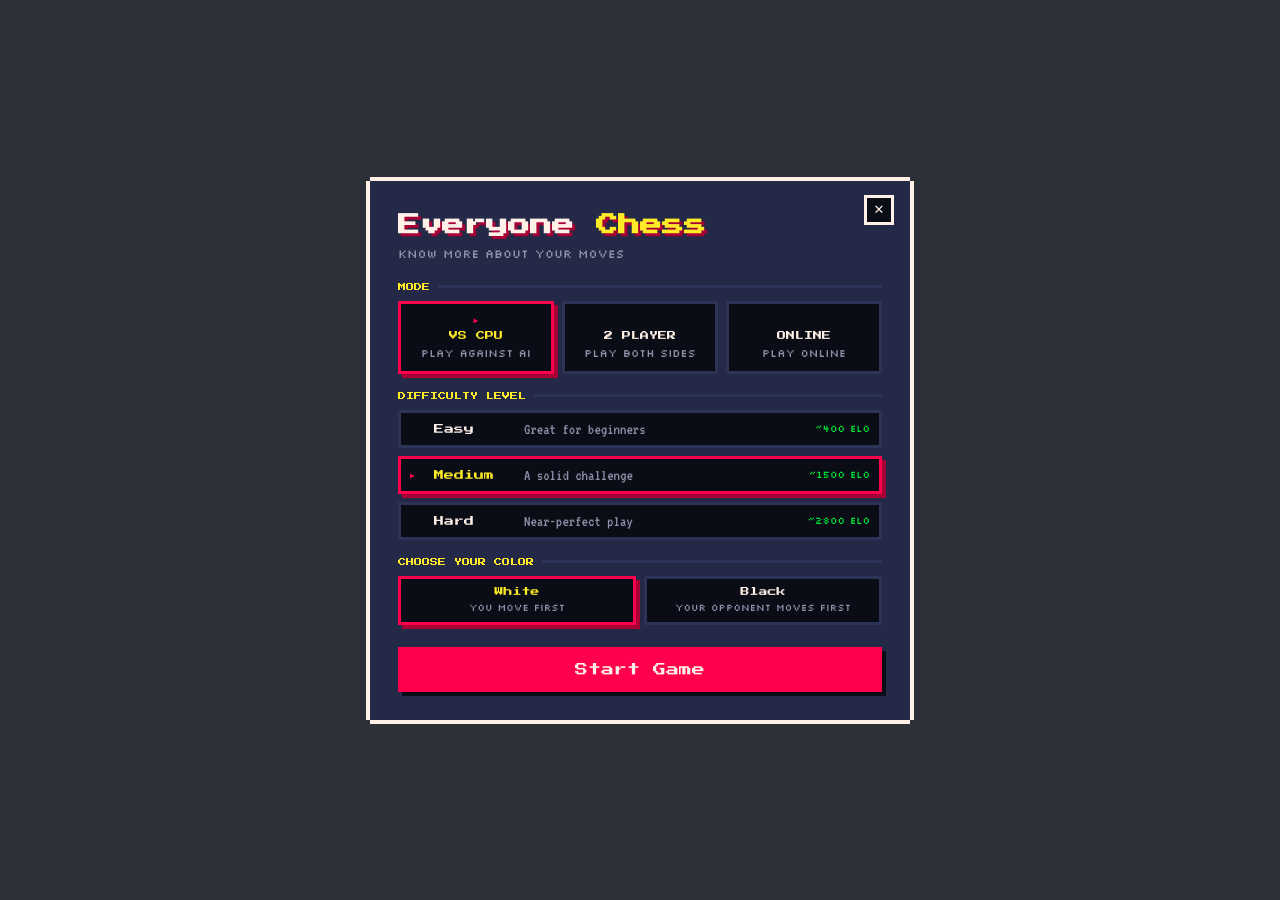
StartScreen › hides difficulty/color when not playing the computer
Check: the text "Difficulty Level" is shown, box [398,392,526,400]
Click the text "Play both sides".
click(640, 352)  # box [584,346,696,360]
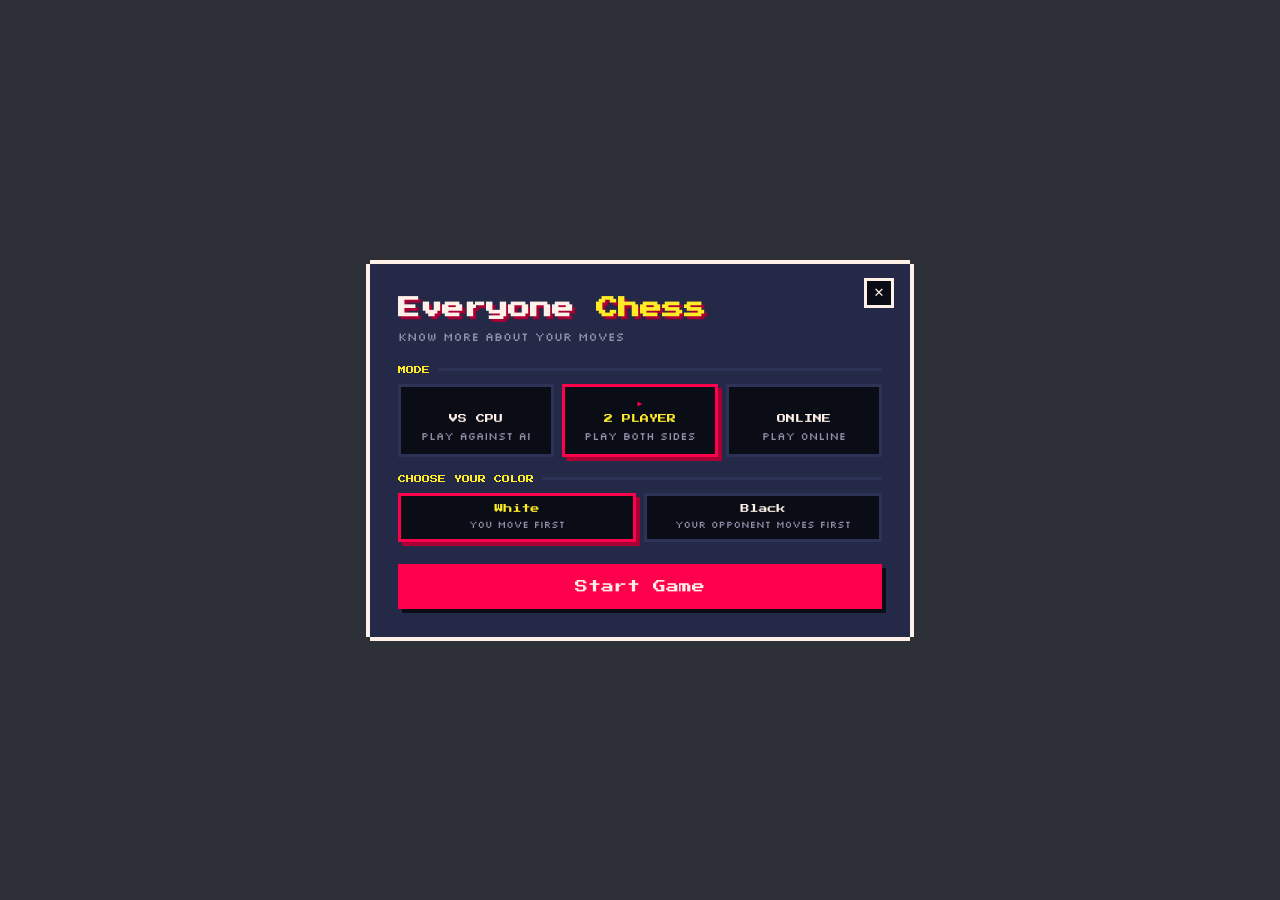
Check: the text "Difficulty Level" is gone
